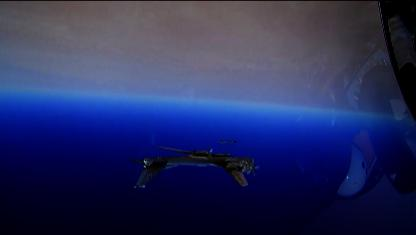Su57: (130, 146, 260, 188)
